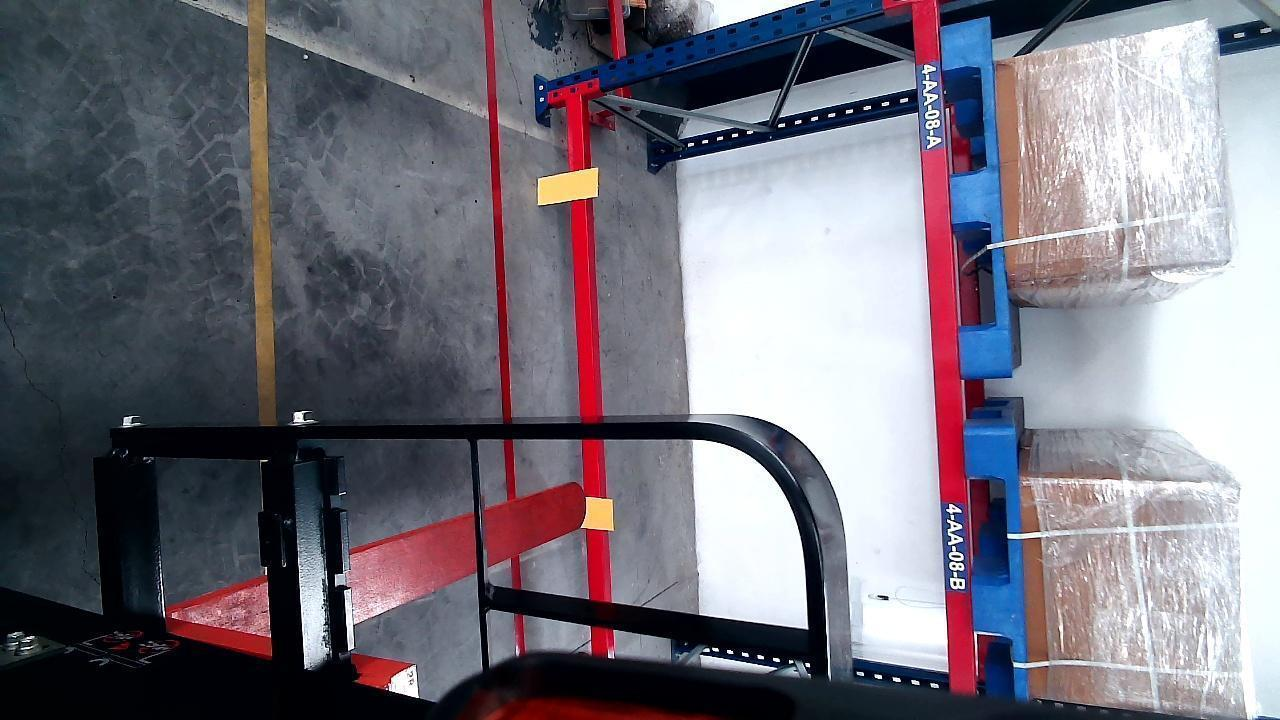red_line: (482, 3, 514, 422)
yellow_line: (249, 0, 276, 413)
